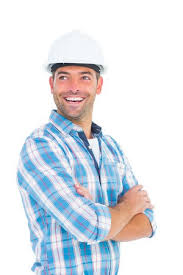Person_wearing_helmet: (40, 26, 106, 94)
